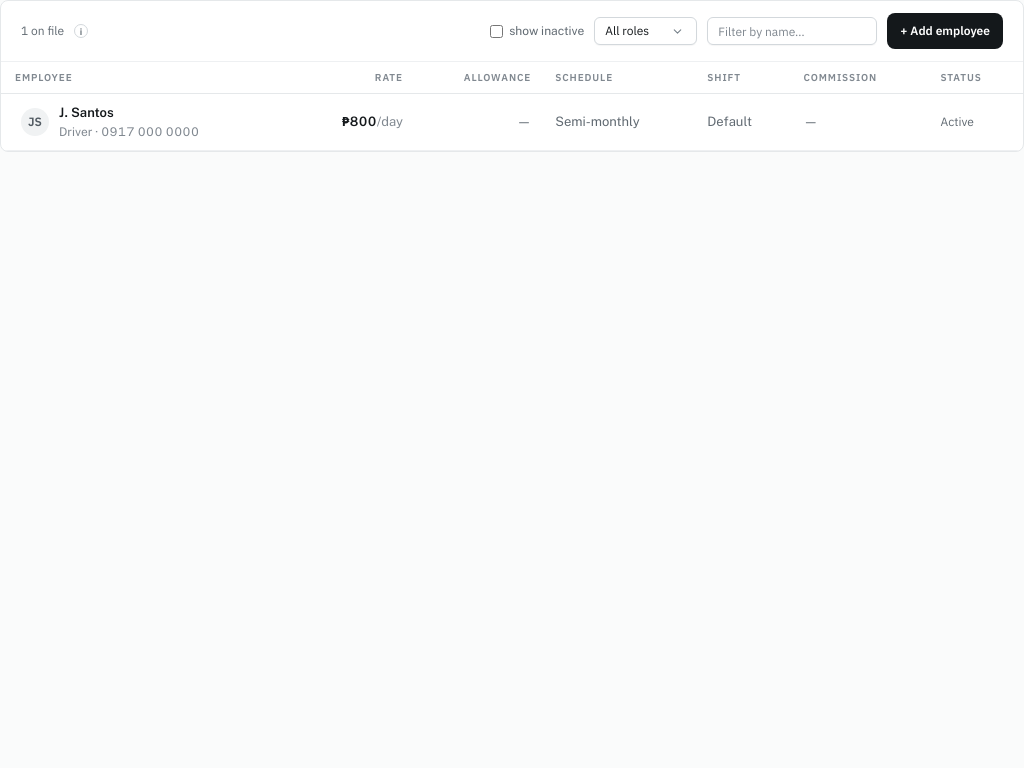
Test: Employee form › warns in the rail when there is no rate to pay
Click the row "J. Santos": (512, 122) [1,94,1023,150]
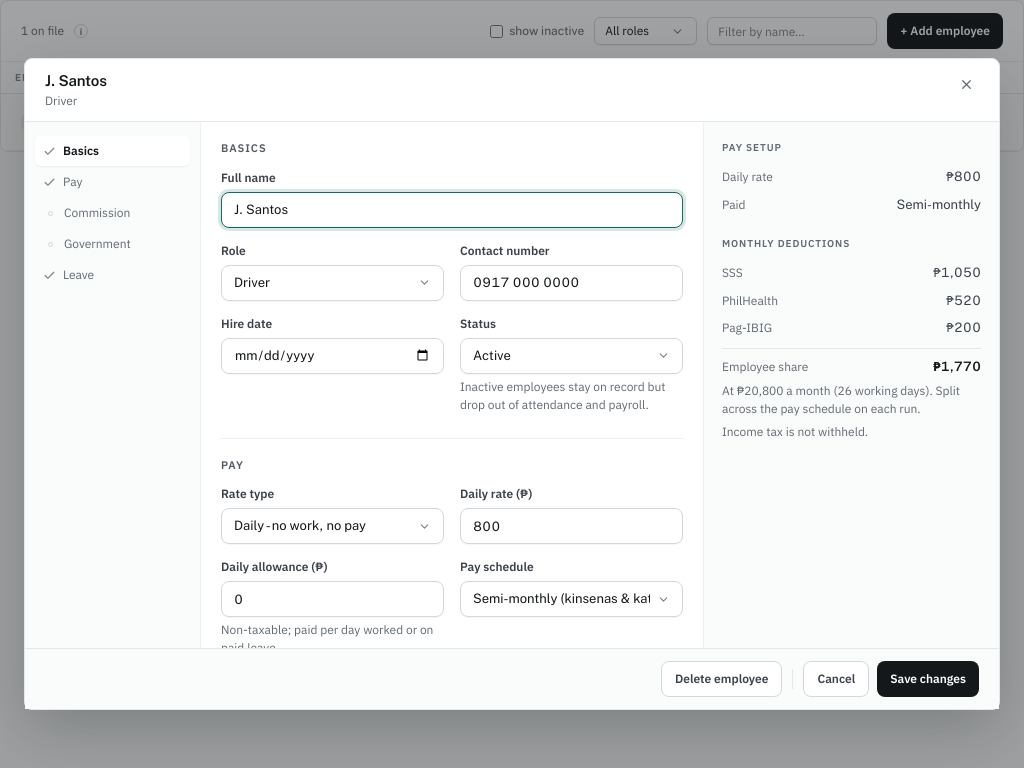
Replace the text in the number field labelled "Daily rate (₱)" with "0": (572, 526) [460,508,683,544]
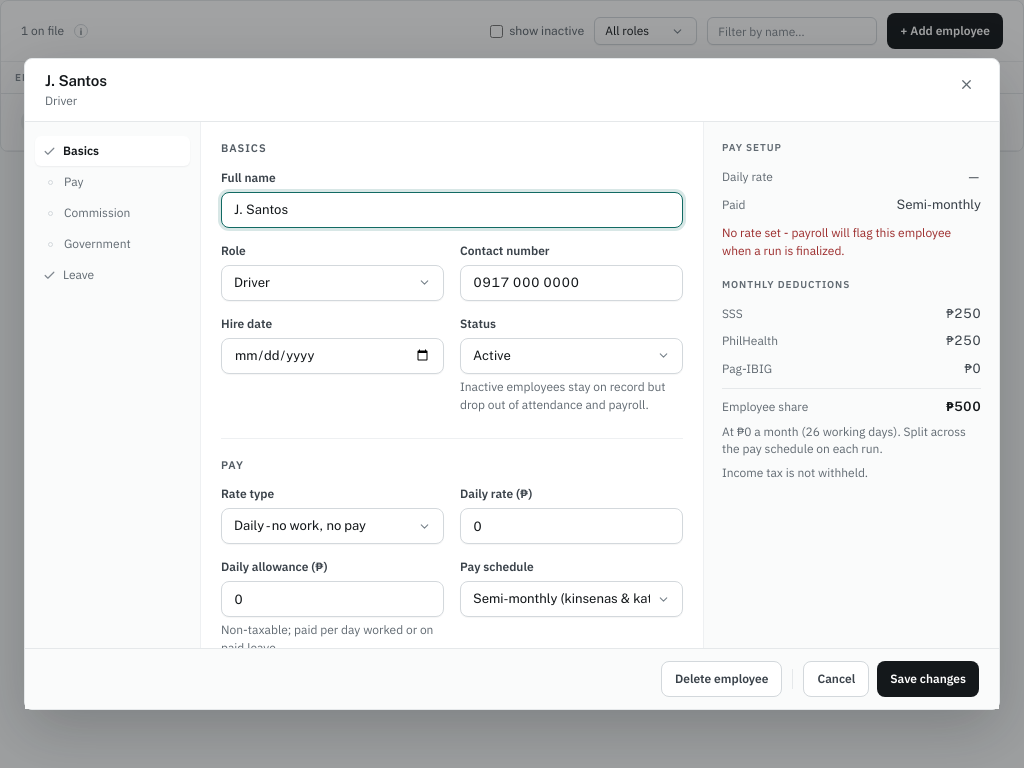
Result: the text "No rate set" is shown at [722,225,951,258]
